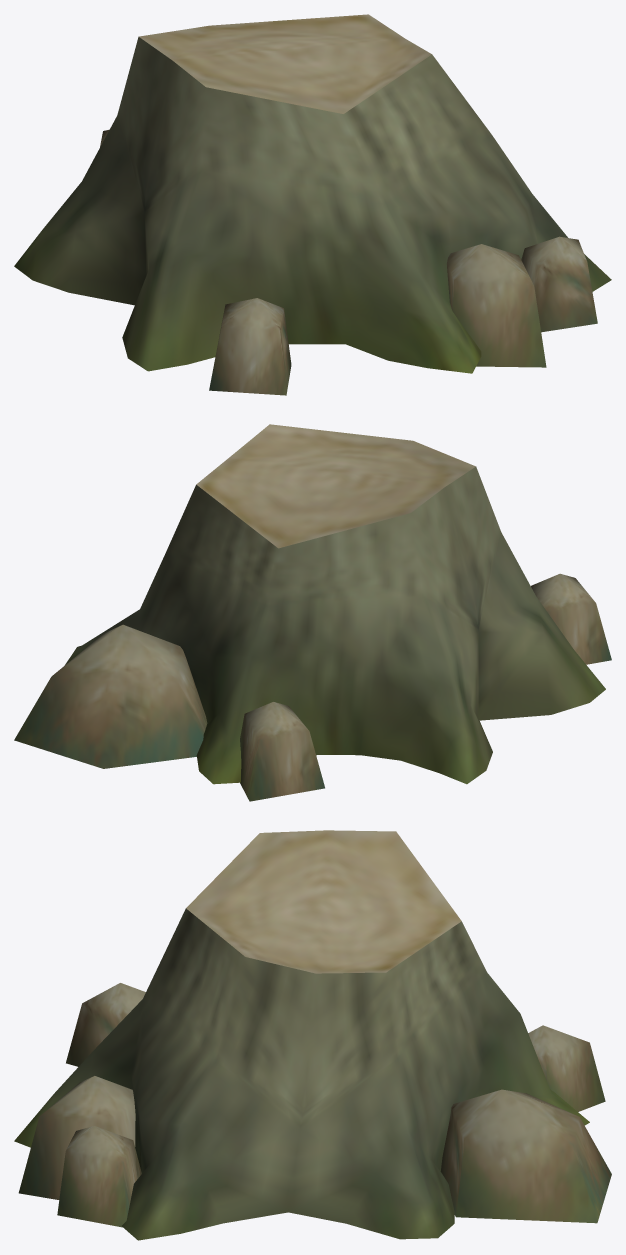
Rendered from Tree_Deco_A02.FBX.
3 renders of one model, top to bottom at view 1: azimuth 30°, elevation 25°; view 2: azimuth 150°, elevation 25°; view 3: azimuth 270°, elevation 25°, orthographic. The views are drawn at different scales.
Parts seen in each view (by area): view 1: Tree_Deco_A02; view 2: Tree_Deco_A02; view 3: Tree_Deco_A02.
Part boxes in pixels (x1,y1,x2,y2): Tree_Deco_A02: (14,14,611,395); Tree_Deco_A02: (14,424,611,801); Tree_Deco_A02: (14,830,611,1240).
Size of the model in its own units: 0.8875 by 0.4777 by 1.02.
